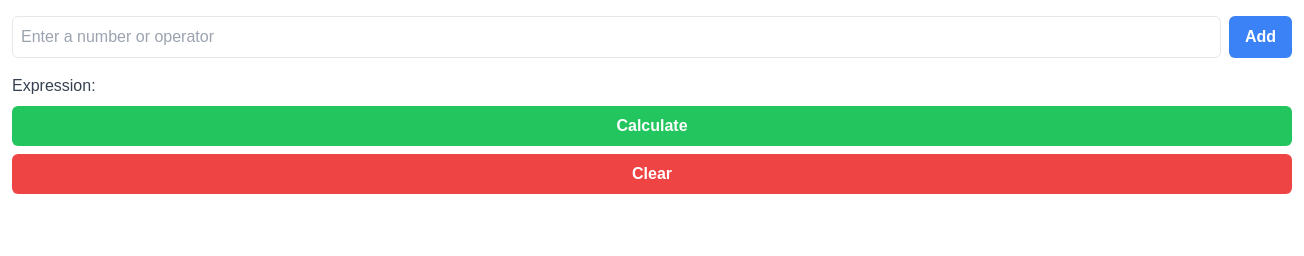
Scenario: Calculator Component › calculates expression and displays result
In the field with placeholder "Enter a number or operator": {"x": 616, "y": 37} x1=12 y1=16 x2=1221 y2=58, type "2"
Click the button "Add": {"x": 1260, "y": 37} x1=1229 y1=16 x2=1292 y2=58
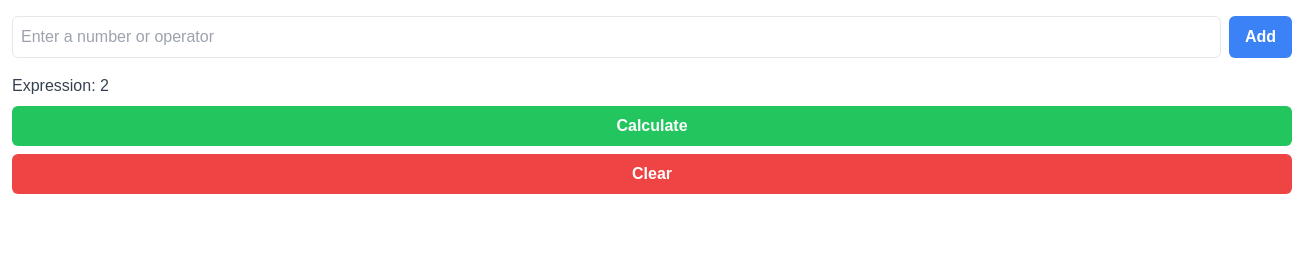
In the field with placeholder "Enter a number or operator": {"x": 616, "y": 37} x1=12 y1=16 x2=1221 y2=58, type "3"
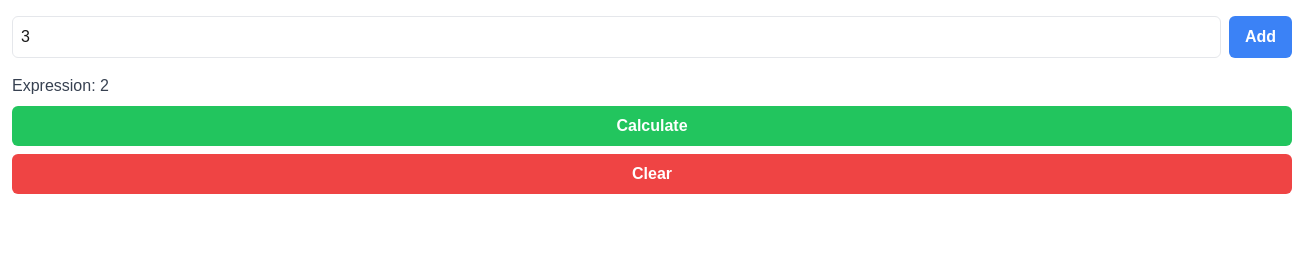
Click the button "Add": {"x": 1260, "y": 37} x1=1229 y1=16 x2=1292 y2=58
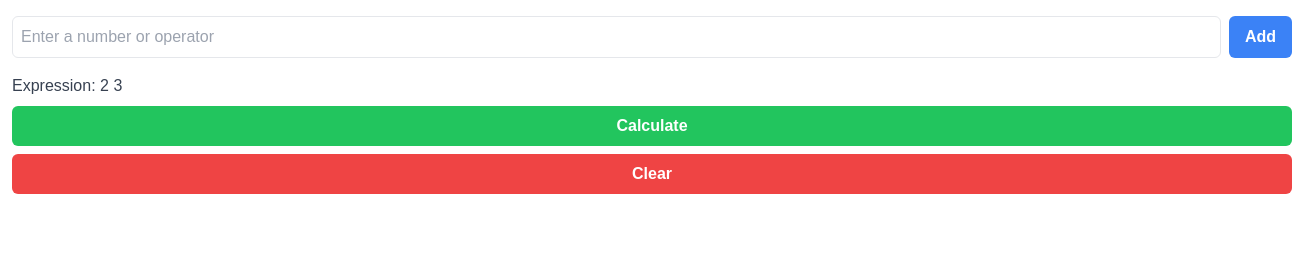
In the field with placeholder "Enter a number or operator": {"x": 616, "y": 37} x1=12 y1=16 x2=1221 y2=58, type "+"
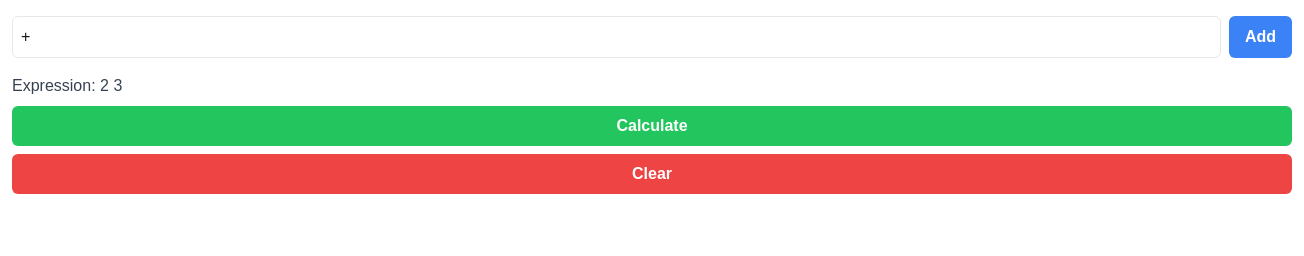
Click the button "Add": {"x": 1260, "y": 37} x1=1229 y1=16 x2=1292 y2=58
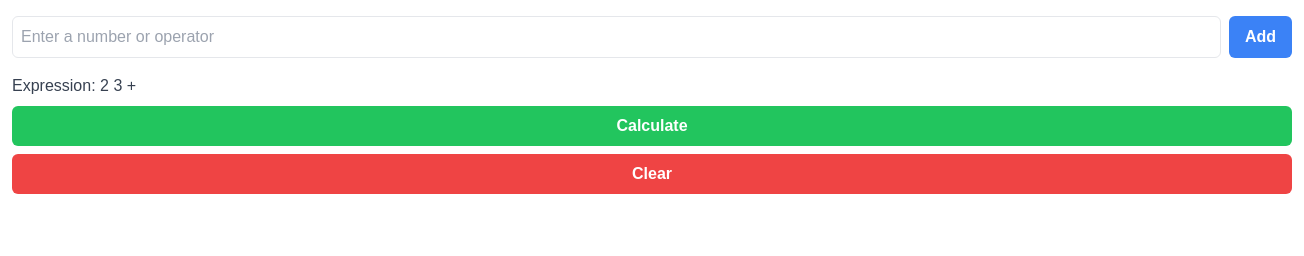
Click the button "Calculate": {"x": 652, "y": 126} x1=12 y1=106 x2=1292 y2=146
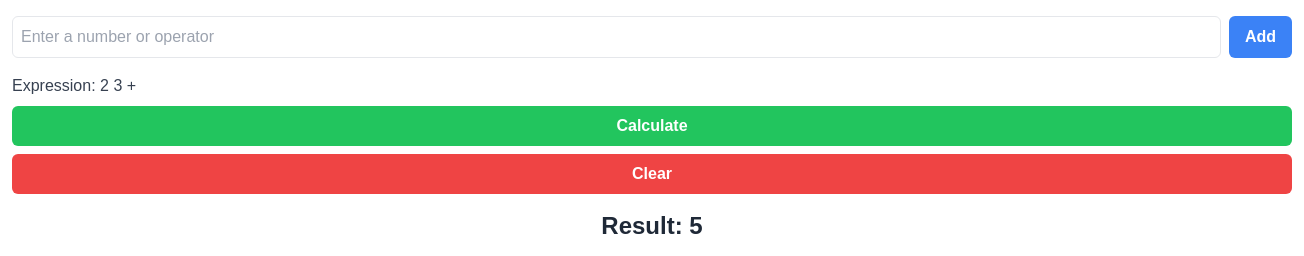
Now the heading "Result: 5" is shown, box x1=601 y1=212 x2=703 y2=239
